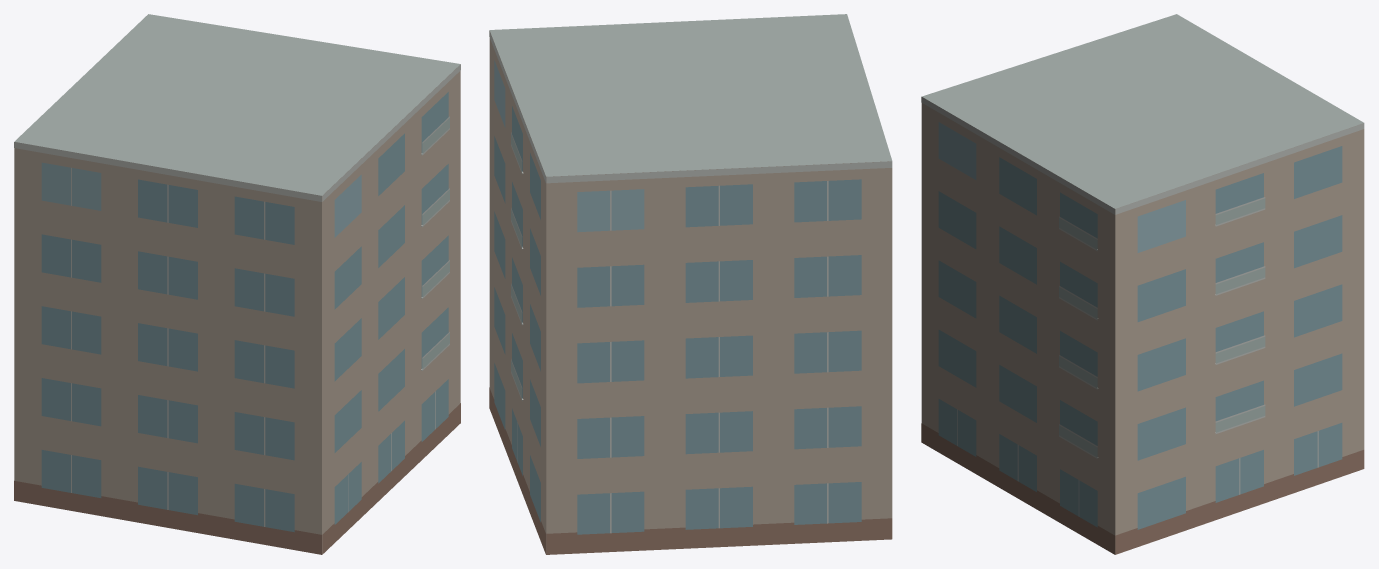
The model's file is survey-upis-32745075.glb.
The picture shows the model from 3 angles, left to right: view 1: azimuth 30°, elevation 25°; view 2: azimuth 150°, elevation 25°; view 3: azimuth 270°, elevation 25°; orthographic projection. The views are drawn at different scales.
Parts seen in each view (by area): view 1: survey-upis-32745075.tmp; view 2: survey-upis-32745075.tmp; view 3: survey-upis-32745075.tmp.
Part boxes in pixels (x1,y1,x2,y2): survey-upis-32745075.tmp: [14, 14, 460, 554]; survey-upis-32745075.tmp: [489, 14, 892, 554]; survey-upis-32745075.tmp: [921, 14, 1364, 554].
Size of the model in its own units: 16.93 by 14 by 16.25.
